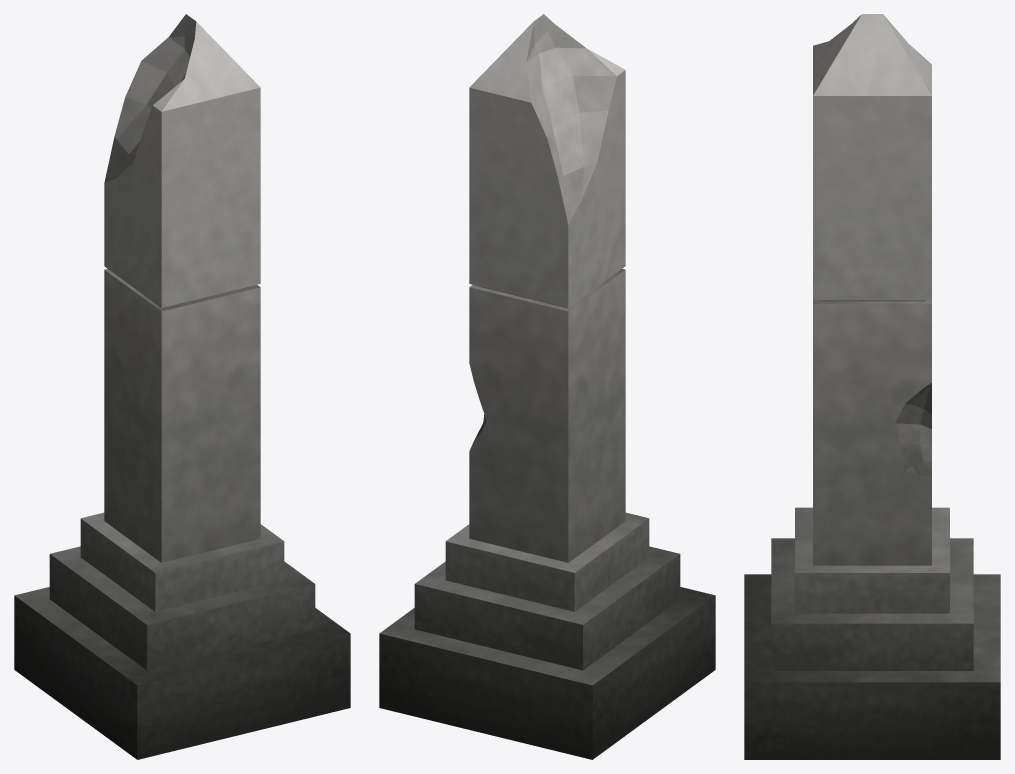
File: Monolito_02.fbx
3 views of the same model, side by side, from view 1: azimuth 30°, elevation 25°; view 2: azimuth 150°, elevation 25°; view 3: azimuth 270°, elevation 25° (orthographic). The views are drawn at different scales.
Visible parts, largest first — view 1: Cube.002; view 2: Cube.002; view 3: Cube.002.
Boxes of the visible parts, x1,y1,x2,y2 form: Cube.002: [14, 14, 350, 759]; Cube.002: [379, 14, 715, 759]; Cube.002: [744, 14, 1000, 759].
Bounding box in the file's own units: 3 × 9 × 3.
